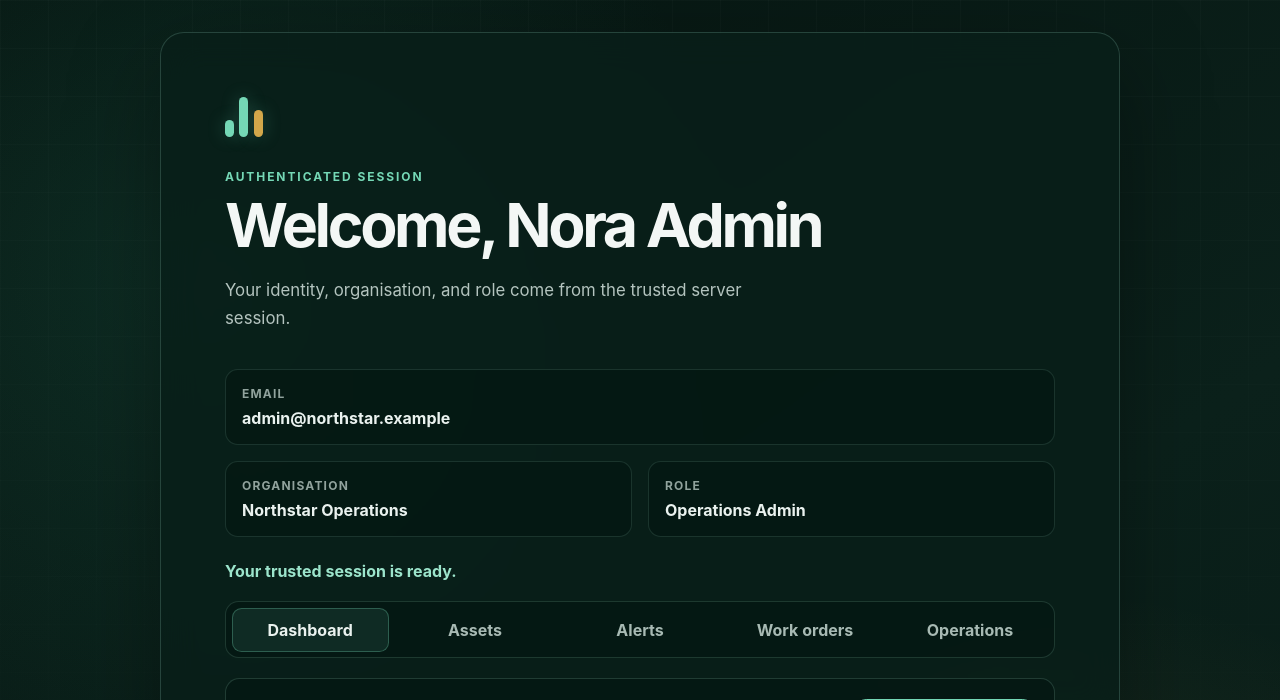
seeded session application › lands on the dashboard and preserves organisation assets behind navigation
Check: the heading "Welcome, Nora Admin" is shown, box x1=225 y1=188 x2=821 y2=262
Check: the text "admin@northstar.example" is shown, box x1=242 y1=408 x2=450 y2=428
Click the button "Assets" at (475, 630), box x1=397 y1=608 x2=554 y2=652
(page scrolled)
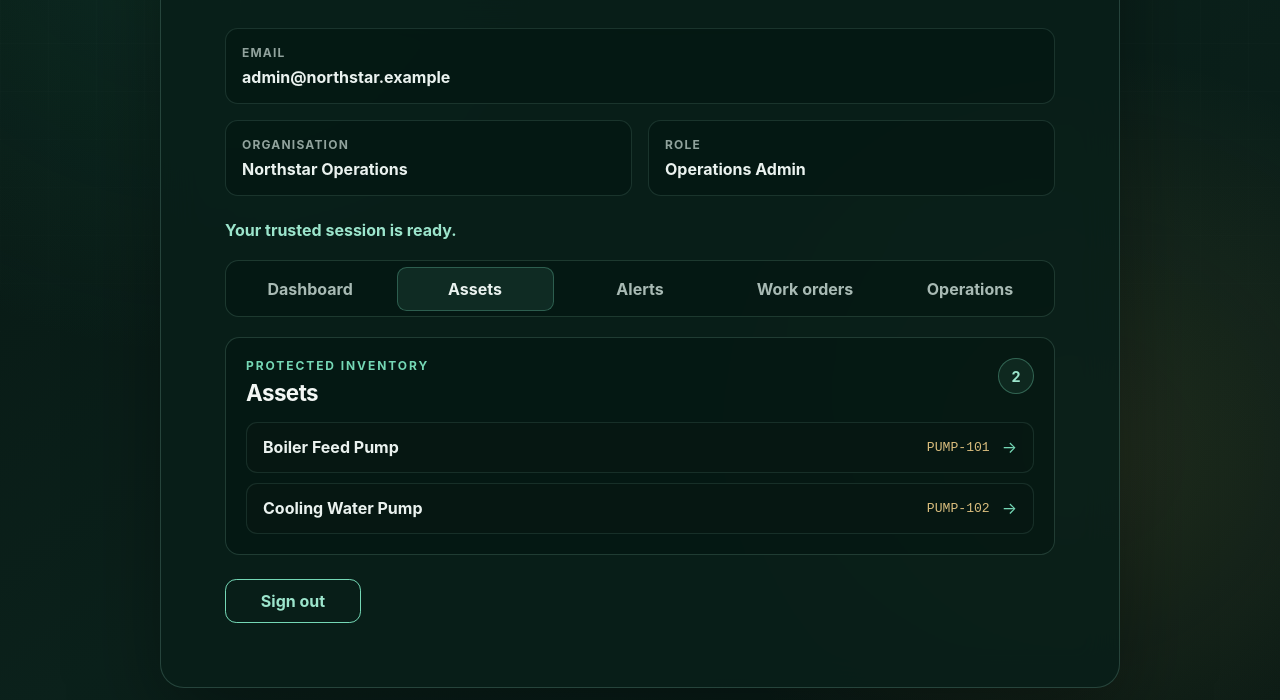
Check: the text "Boiler Feed Pump" is shown, box x1=263 y1=437 x2=399 y2=457
Check: the text "PUMP-101" is shown, box x1=927 y1=440 x2=990 y2=455
Check: the text "Cooling Water Pump" is shown, box x1=263 y1=498 x2=422 y2=518
